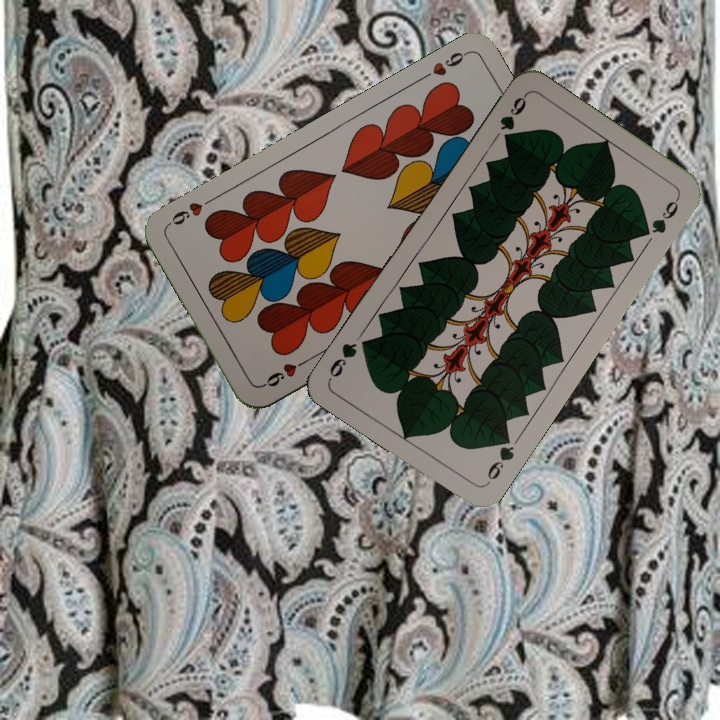G9: (481, 429, 517, 487), (496, 91, 529, 133)
H9: (257, 354, 311, 390), (416, 47, 470, 83)
